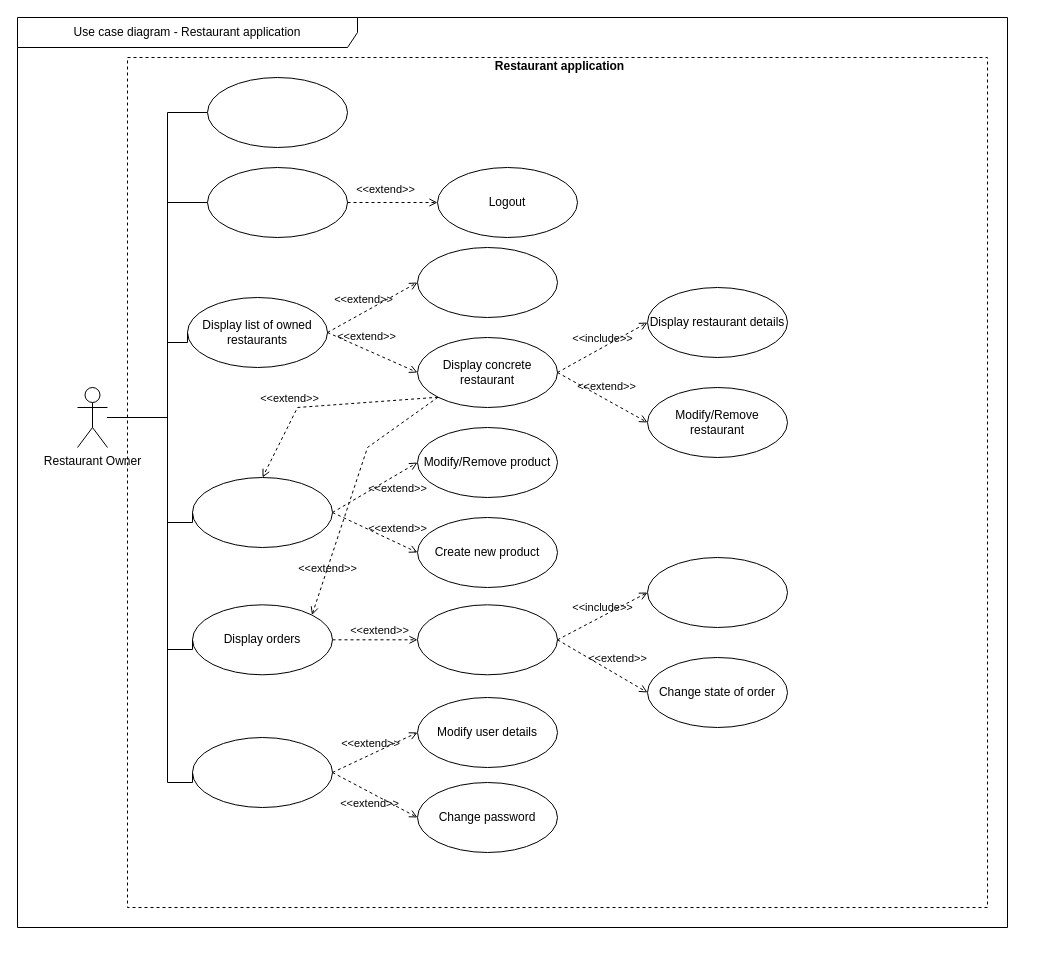
The diagram is 1045 pixels wide and 955 high, and some of its shapes have lost their labels. Here are the shapes that lost their labels. From the top down, the box of each, then its label:
(206, 76, 348, 148): Registration
(206, 166, 348, 238): Login
(416, 246, 558, 318): Create new restaurant
(192, 476, 332, 548): Display available products
(646, 556, 788, 628): Display order details
(416, 604, 558, 675): Display concrete order
(192, 736, 332, 808): Display user profile
